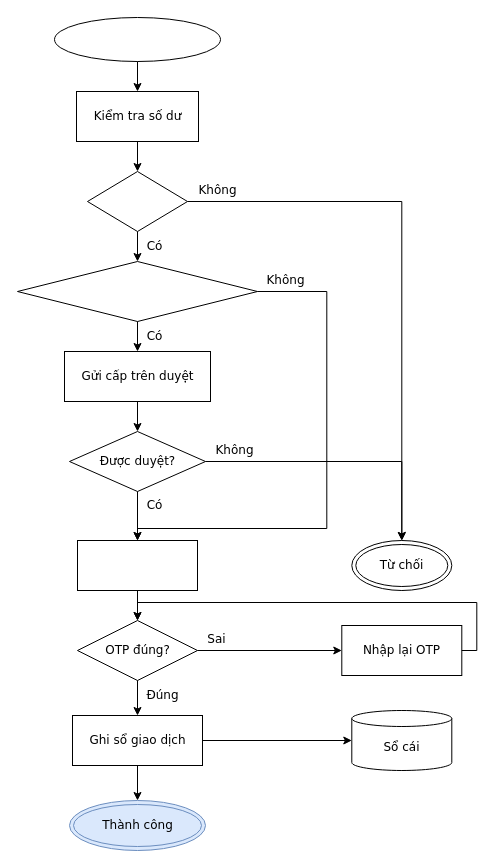
Some shapes in this 503 by 868 pixel diagram are drawn without their labels. Here are the shapes that lost their labels. From the top down, the centre of each, then its label:
At pixel 137 39: "Lập lệnh chuyển".
At pixel 137 201: "Đủ tiền?".
At pixel 137 291: "Số tiền trên 500 triệu?".
At pixel 137 565: "Xác thực OTP".
